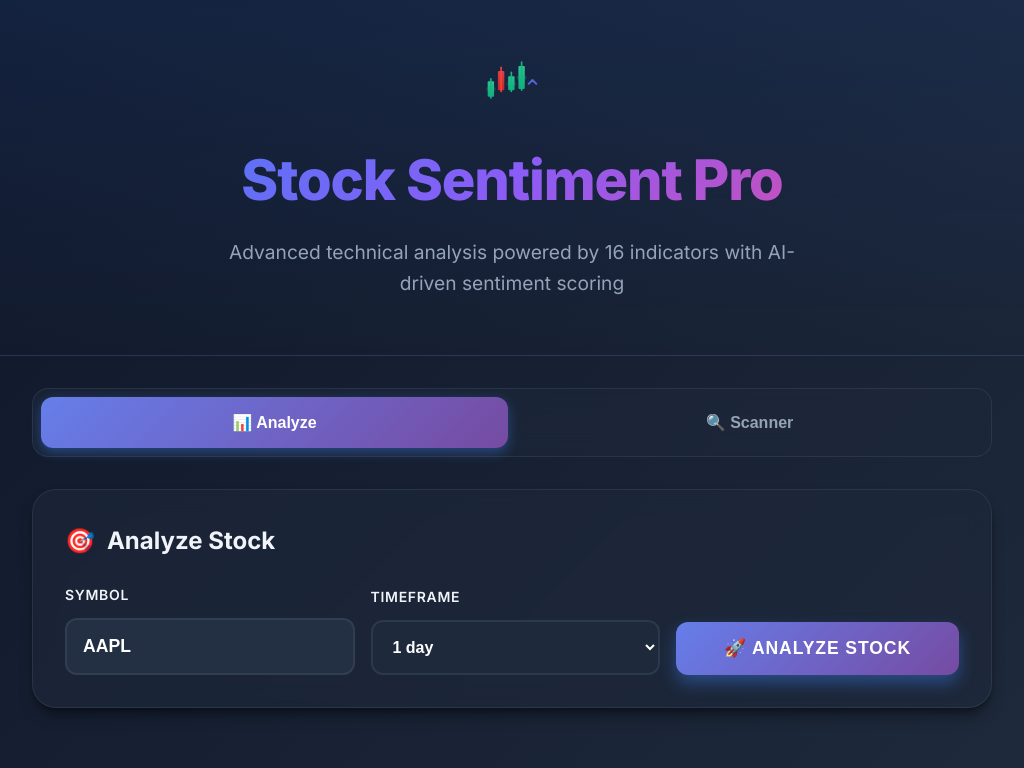
Test: Stock Sentiment App - Fixed Tests › Scanner Functionality › scanner has Start Market Scan button
The width and height of the screenshot is (1024, 768).
Click the button "🔍 Scanner" at (750, 422), box [516,397,983,448]
(page scrolled)
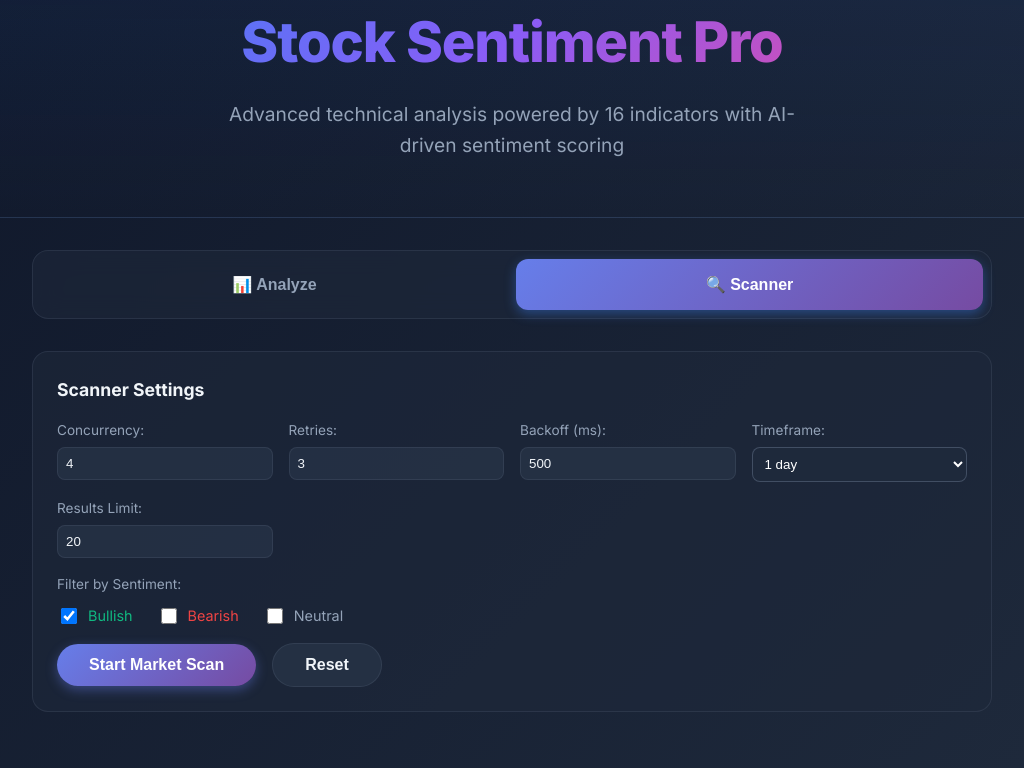
expect the button with test id "start-scan-button" reads "Start Market Scan": met, box [57,644,256,686]
